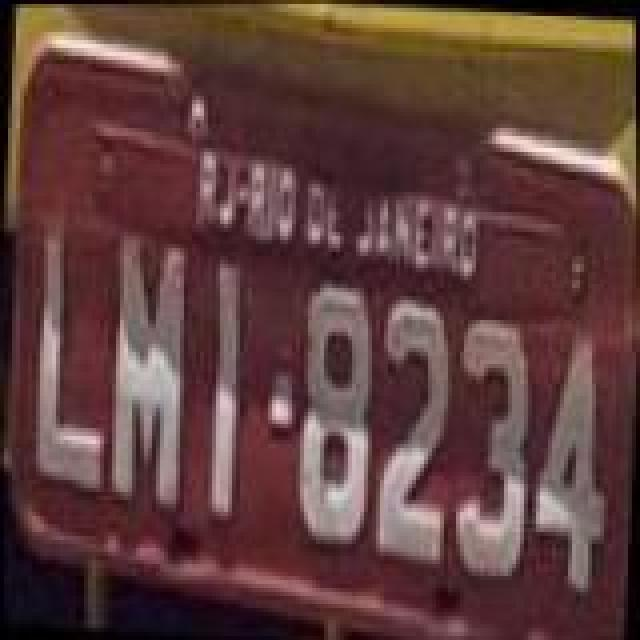1: (198, 266, 254, 526)
2: (370, 294, 466, 570)
3: (446, 310, 542, 582)
4: (520, 328, 620, 600)
8: (288, 276, 388, 552)
L: (24, 232, 120, 496)
M: (104, 232, 200, 508)
